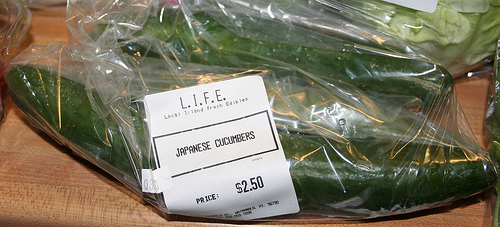cucumber: (4, 63, 499, 222), (82, 0, 455, 102)
